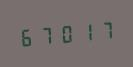one: (75, 19, 93, 44)
seven: (37, 22, 55, 47), (94, 17, 112, 42)
six: (18, 24, 36, 49)
zero: (56, 20, 74, 46)
